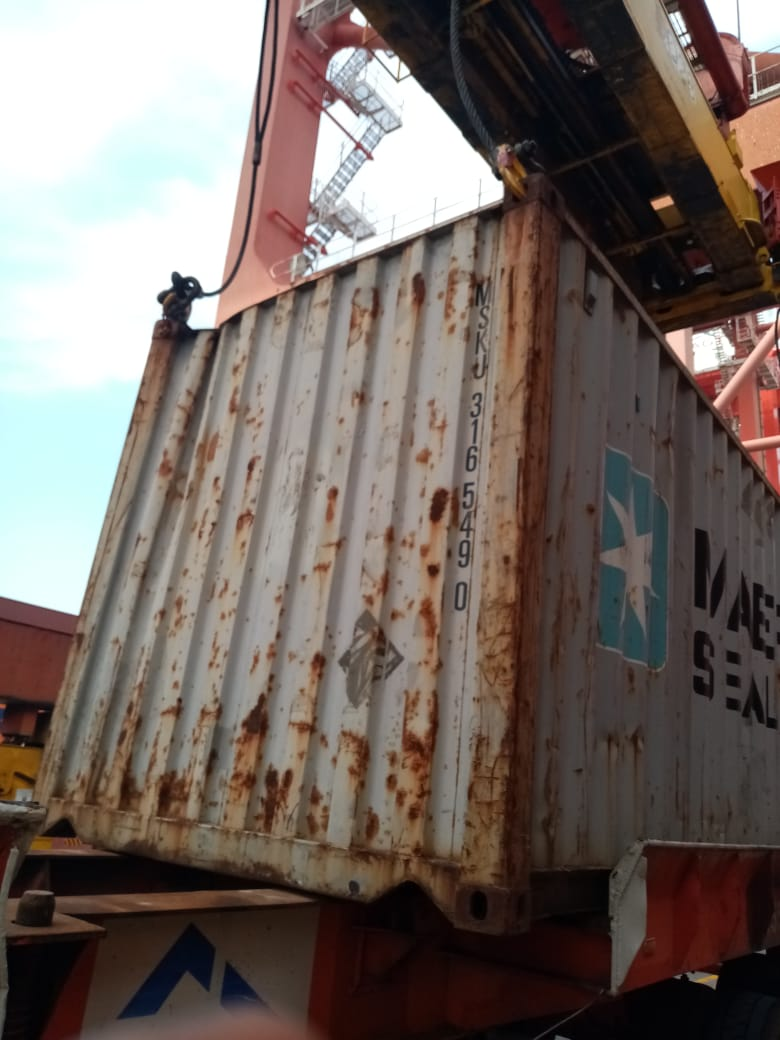dented: (133, 288, 288, 547)
rust: (51, 702, 223, 837), (382, 694, 461, 819), (386, 475, 469, 590), (236, 691, 323, 795)
